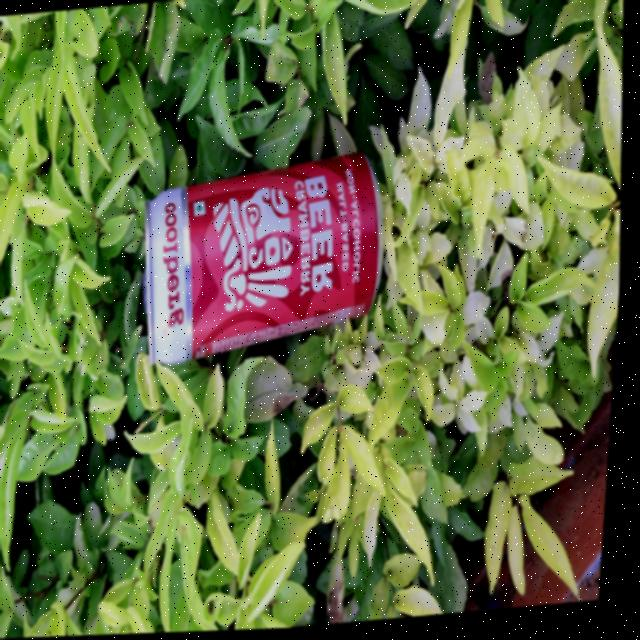Coolberg: (141, 137, 382, 364)
